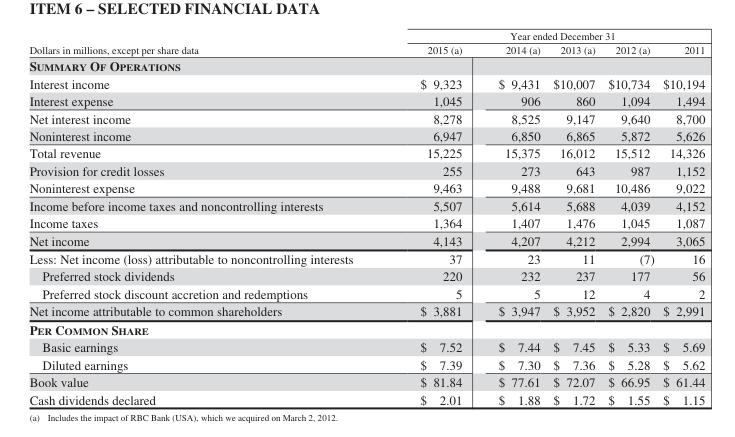table: (28, 29, 704, 406)
table column: (28, 29, 386, 406), (386, 29, 479, 406), (479, 29, 546, 406), (601, 29, 658, 406), (546, 29, 601, 406), (658, 29, 704, 406)
table column header: (28, 29, 704, 56)
table projected row header: (28, 319, 704, 338), (28, 56, 704, 74)
table row: (28, 319, 704, 338), (28, 56, 704, 74), (28, 91, 704, 109), (28, 126, 704, 144), (28, 161, 704, 179), (28, 196, 704, 214), (28, 231, 704, 249), (28, 249, 704, 267), (28, 284, 704, 302), (28, 372, 704, 390), (28, 74, 704, 91), (28, 109, 704, 126), (28, 144, 704, 161), (28, 179, 704, 196), (28, 214, 704, 231), (28, 267, 704, 284), (28, 302, 704, 319), (28, 338, 704, 355), (28, 355, 704, 372), (28, 390, 704, 406), (28, 42, 704, 56), (28, 29, 704, 42)
table spanning cell: (28, 29, 386, 56), (386, 29, 704, 42)
